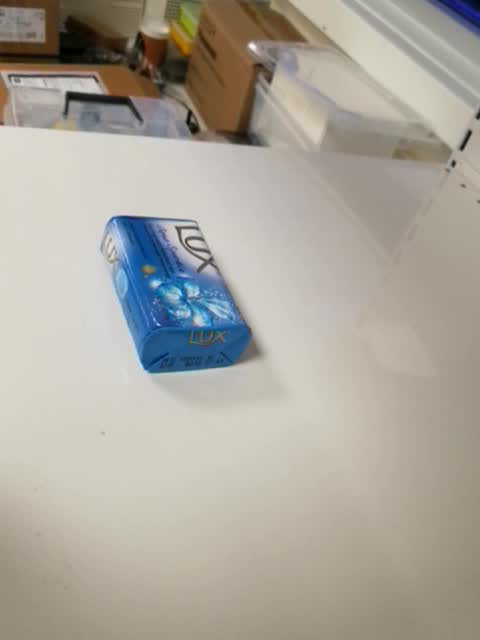soap: (97, 215, 252, 374)
